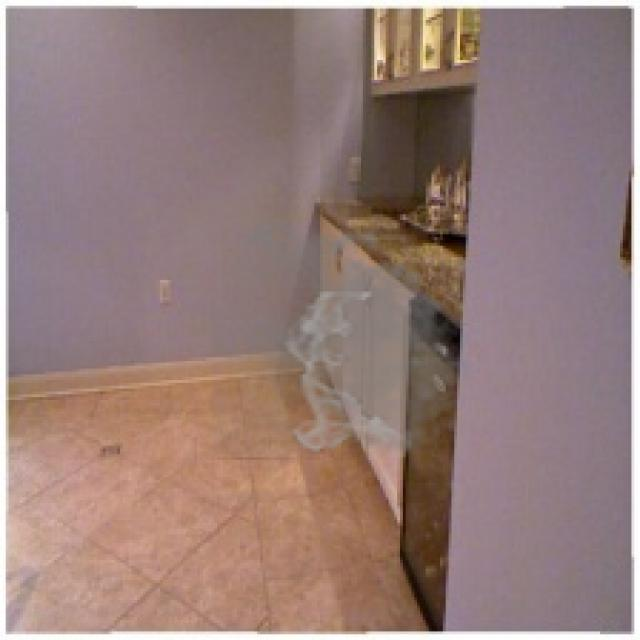Smoke: (211, 215, 483, 460)
